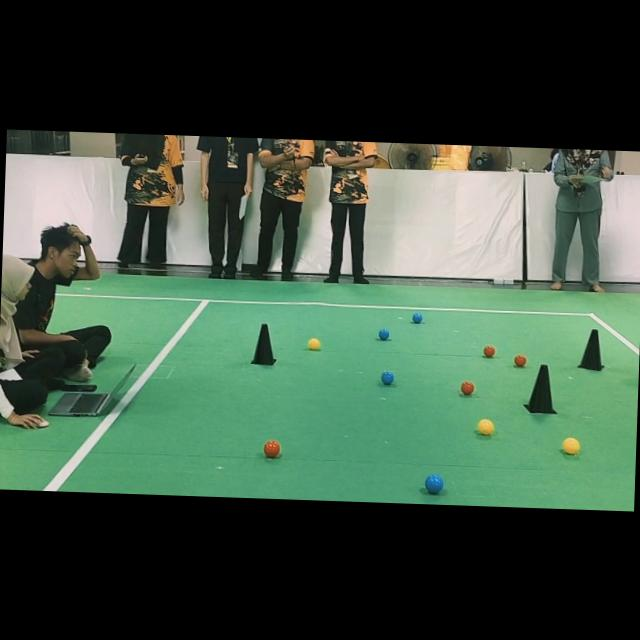ball: (424, 474, 443, 494), (263, 440, 281, 457), (562, 437, 579, 454), (478, 418, 494, 435), (460, 380, 474, 394), (380, 371, 394, 385), (514, 353, 526, 367), (308, 337, 320, 350), (483, 345, 495, 357), (378, 328, 390, 340), (411, 312, 423, 323)
